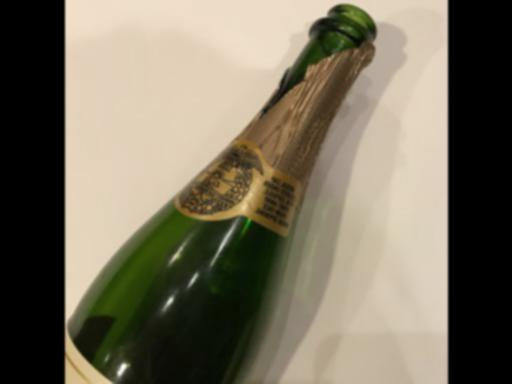alcohol: (64, 3, 376, 384)
glass: (64, 3, 376, 384)
sodocalcique: (64, 3, 376, 384)
